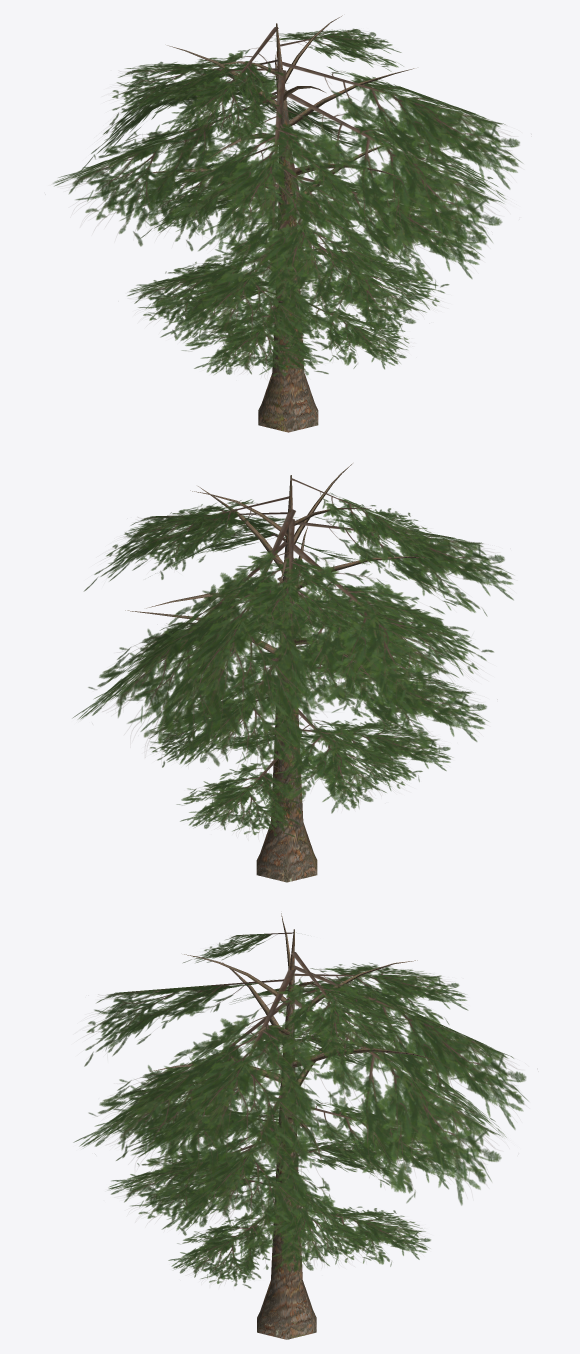
File: cypress.glb
3 renders of one model, top to bottom at view 1: azimuth 30°, elevation 25°; view 2: azimuth 150°, elevation 25°; view 3: azimuth 270°, elevation 25°, orthographic.
Visible parts, largest first — view 1: canopy, tree; view 2: canopy, tree; view 3: canopy, tree.
Boxes of the visible parts, x1=… form: canopy: x1=53, y1=27, x2=521, y2=376; tree: x1=151, y1=15, x2=414, y2=432; canopy: x1=72, y1=478, x2=513, y2=836; tree: x1=125, y1=463, x2=427, y2=882; canopy: x1=73, y1=932, x2=527, y2=1288; tree: x1=150, y1=913, x2=437, y2=1339.
Size of the model in its own units: 33.62 by 26.44 by 33.76.
Materials: 2 (2 with a texture image).
